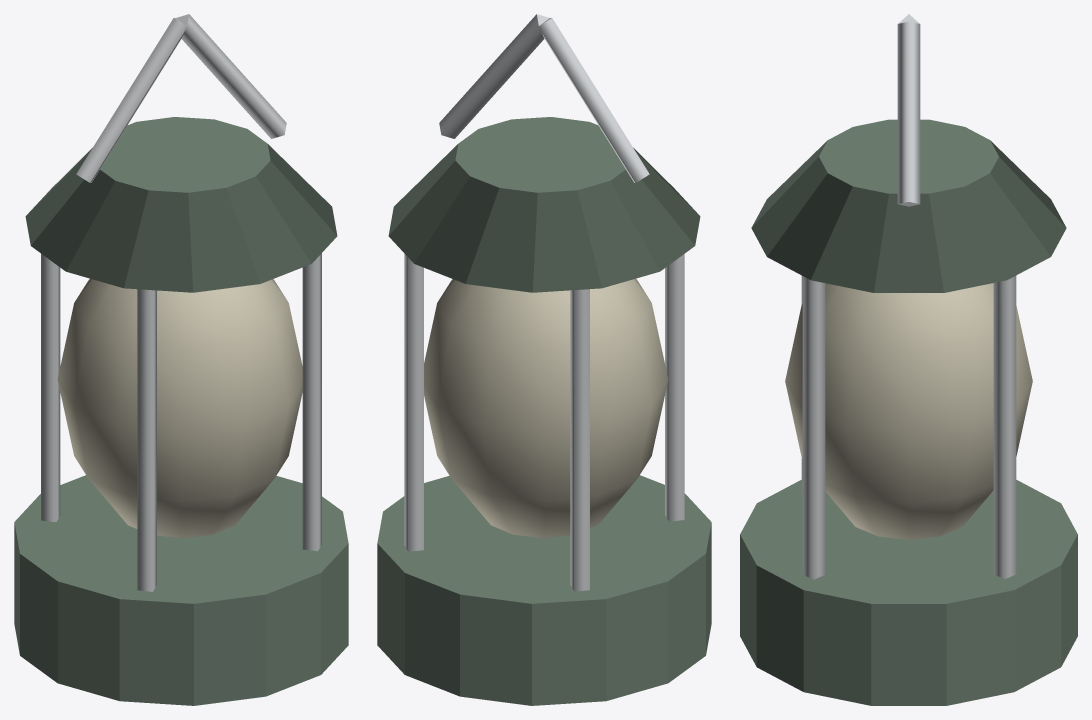
The model's file is camp_lantern_a_off.glb.
3 renders of one model, left to right at view 1: azimuth 30°, elevation 25°; view 2: azimuth 150°, elevation 25°; view 3: azimuth 270°, elevation 25°, orthographic.
Visible parts, largest first — view 1: body, lamp_glass; view 2: body, lamp_glass; view 3: body, lamp_glass.
Boxes of the visible parts, bbox=[...] form: body: bbox=[14, 14, 348, 705]; lamp_glass: bbox=[57, 278, 302, 538]; body: bbox=[377, 14, 711, 705]; lamp_glass: bbox=[424, 278, 668, 538]; body: bbox=[740, 14, 1077, 705]; lamp_glass: bbox=[785, 283, 1032, 539].
Size of the model in its own units: 0.1462 by 0.303 by 0.15.
